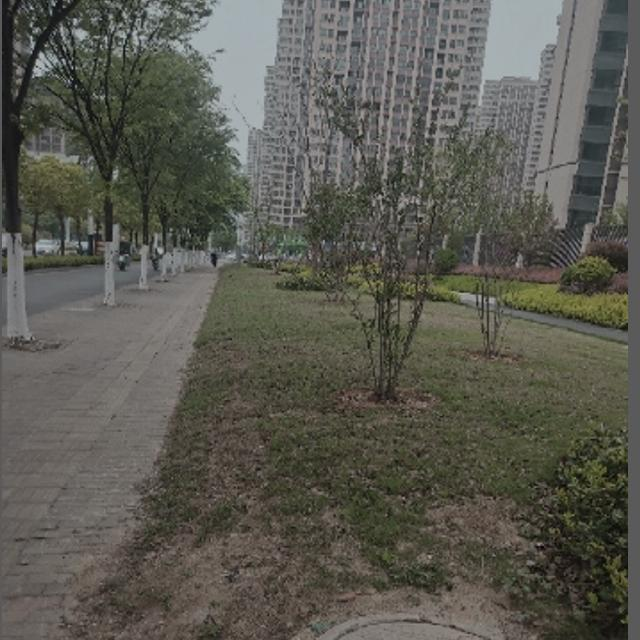good: (293, 611, 591, 640)
